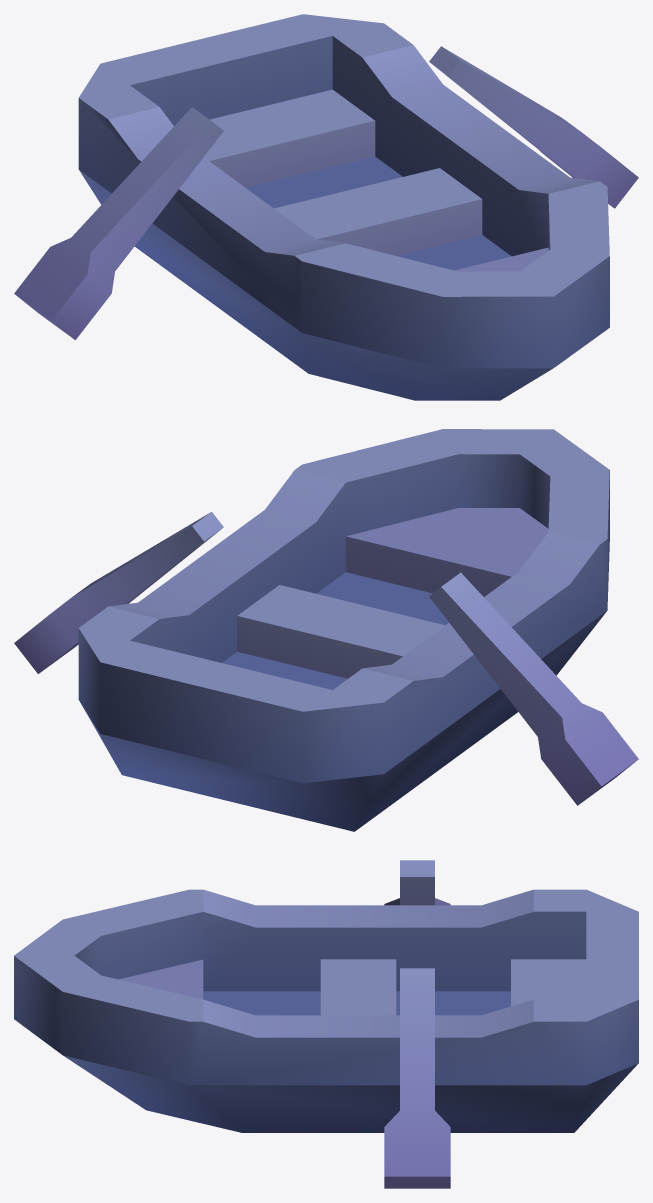
The model's file is boat-row-large.fbx.
3 renders of one model, top to bottom at view 1: azimuth 30°, elevation 25°; view 2: azimuth 150°, elevation 25°; view 3: azimuth 270°, elevation 25°, orthographic. The views are drawn at different scales.
Parts seen in each view (by area): view 1: boat-row-large, paddles; view 2: boat-row-large, paddles; view 3: boat-row-large, paddles.
Part boxes in pixels (x1,y1,x2,y2): boat-row-large: [78, 14, 609, 400]; paddles: [14, 46, 638, 339]; boat-row-large: [78, 429, 609, 831]; paddles: [14, 512, 638, 805]; boat-row-large: [14, 889, 638, 1132]; paddles: [384, 860, 450, 1188].
Size of the model in its own units: 275 by 84.77 by 285.
